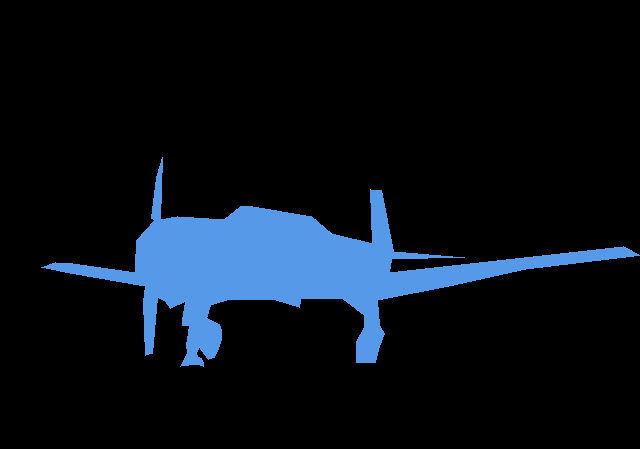Airplane: (41, 157, 640, 366)
